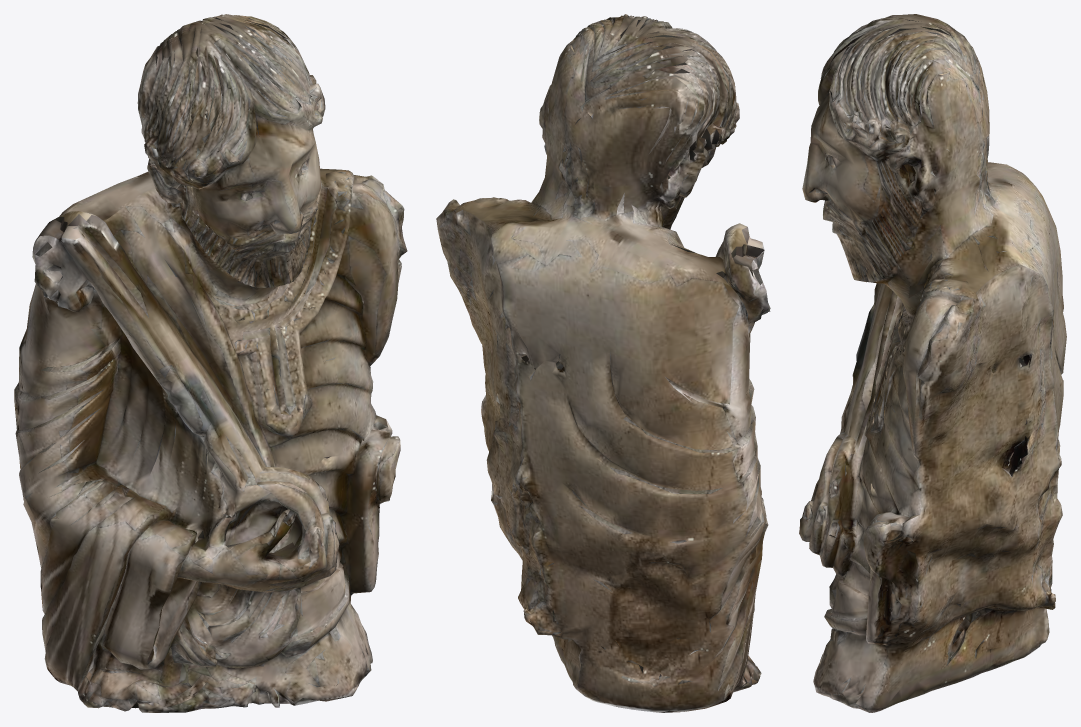
The model's file is saint-peter-c35.glb.
The picture shows the model from 3 angles, left to right: view 1: azimuth 30°, elevation 25°; view 2: azimuth 150°, elevation 25°; view 3: azimuth 270°, elevation 25°; orthographic projection. The views are drawn at different scales.
Parts seen in each view (by area): view 1: Mesh; view 2: Mesh; view 3: Mesh.
Boxes of the visible parts, x1=… form: Mesh: x1=14, y1=14, x2=407, y2=712; Mesh: x1=436, y1=14, x2=770, y2=712; Mesh: x1=799, y1=14, x2=1066, y2=712.
Bounding box in the file's own units: 0.4326 × 0.7613 × 0.2924.
1 material, 1 textured.
